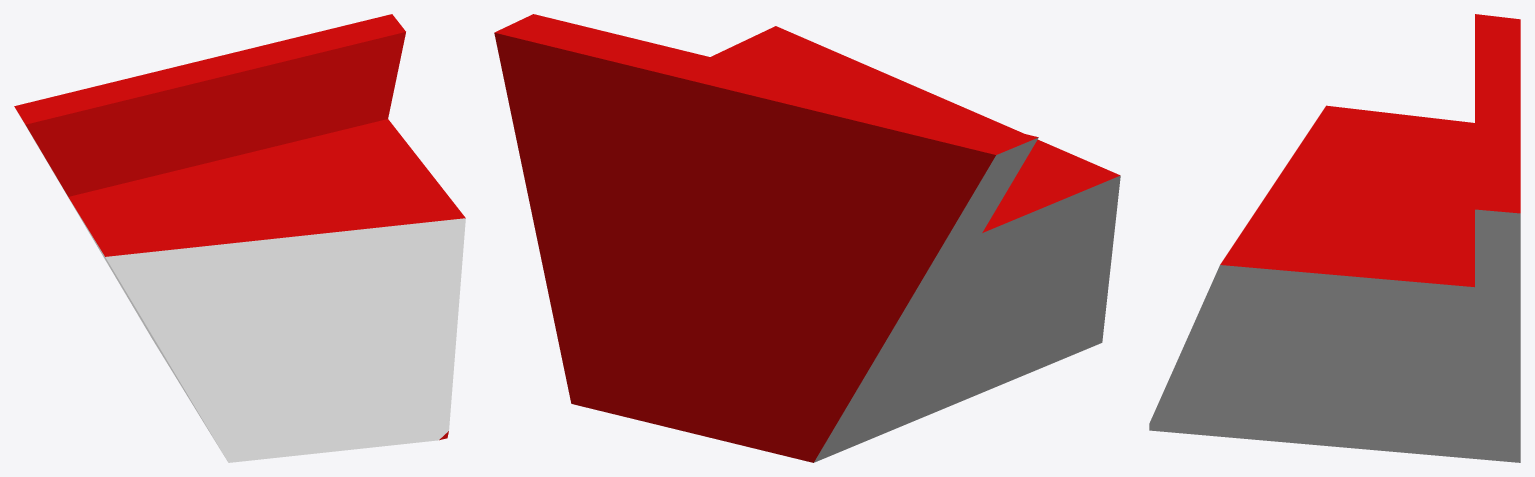
Rendered from mdl_ciudadela_pared_fracturepart15.fbx.
3 renders of one model, left to right at view 1: azimuth 30°, elevation 25°; view 2: azimuth 150°, elevation 25°; view 3: azimuth 270°, elevation 25°, orthographic. The views are drawn at different scales.
Parts seen in each view (by area): view 1: mdl_ciudadela_pared_fracturepart15; view 2: mdl_ciudadela_pared_fracturepart15; view 3: mdl_ciudadela_pared_fracturepart15.
Part boxes in pixels (x1,y1,x2,y2): mdl_ciudadela_pared_fracturepart15: (14,14,465,462); mdl_ciudadela_pared_fracturepart15: (494,14,1120,462); mdl_ciudadela_pared_fracturepart15: (1149,14,1520,462).
Size of the model in its own units: 6.28 by 4.1 by 4.94.
